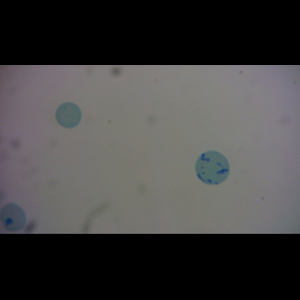aggregate reticulocyte: (194, 150, 231, 186)
erythrocyte: (1, 202, 28, 232), (55, 102, 83, 129)
